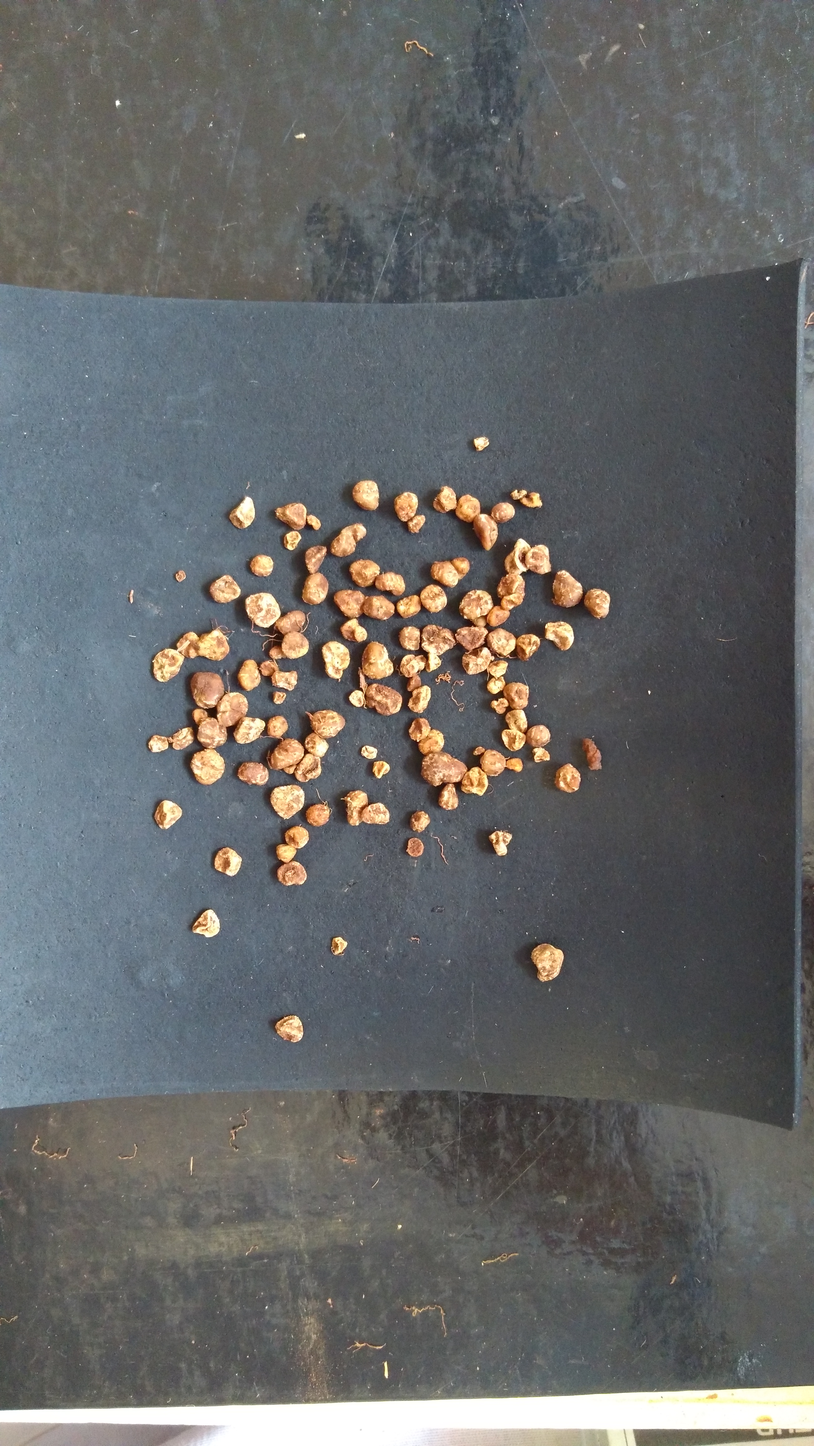nodule: (182, 900, 233, 948), (527, 939, 571, 988), (420, 747, 469, 789), (544, 565, 585, 612), (149, 793, 189, 840), (267, 781, 309, 825), (241, 586, 282, 631), (188, 746, 228, 792), (187, 665, 227, 711), (360, 637, 398, 683), (195, 624, 236, 666), (328, 519, 370, 559), (305, 707, 349, 744), (363, 681, 405, 719), (206, 568, 243, 611), (210, 841, 249, 881), (270, 1012, 311, 1050), (213, 690, 251, 730), (320, 638, 353, 682), (195, 713, 232, 752), (150, 646, 186, 685), (339, 786, 370, 831), (418, 622, 459, 656), (171, 620, 203, 663), (270, 495, 308, 531), (224, 493, 259, 532), (495, 572, 529, 611), (459, 762, 493, 801), (349, 476, 383, 513), (357, 798, 396, 830), (539, 621, 579, 652), (472, 513, 502, 554), (583, 585, 618, 620), (330, 586, 365, 621), (458, 588, 495, 621), (390, 484, 421, 523), (425, 558, 460, 592), (268, 737, 303, 771), (359, 592, 397, 623), (501, 535, 529, 577), (460, 644, 494, 678), (454, 490, 484, 528), (488, 627, 521, 661), (300, 570, 329, 608), (501, 679, 534, 712), (236, 759, 270, 791), (296, 747, 324, 785), (523, 543, 555, 576), (278, 628, 310, 661), (394, 622, 425, 656), (418, 581, 449, 615), (232, 715, 267, 745), (348, 559, 384, 588), (235, 656, 262, 694), (273, 861, 311, 888), (299, 728, 331, 760), (551, 763, 584, 794), (429, 481, 457, 517), (372, 572, 409, 599), (453, 624, 488, 652), (303, 797, 331, 832), (579, 737, 605, 774), (487, 829, 517, 861), (406, 683, 434, 717), (273, 608, 307, 636), (409, 805, 439, 836), (165, 723, 197, 752), (265, 666, 302, 691), (514, 632, 542, 665), (478, 747, 506, 780), (247, 552, 279, 580), (271, 839, 304, 866), (302, 543, 331, 573), (498, 725, 529, 753), (416, 727, 447, 755), (488, 499, 518, 527), (398, 652, 429, 679), (525, 722, 553, 751), (395, 591, 424, 619), (486, 602, 517, 628), (405, 715, 433, 743), (502, 707, 530, 734), (283, 822, 311, 849), (337, 618, 367, 643), (516, 487, 545, 511), (438, 780, 458, 814), (451, 555, 476, 582), (145, 731, 170, 757), (405, 836, 432, 860), (280, 526, 304, 552), (266, 712, 289, 738), (302, 509, 325, 534), (404, 512, 428, 534), (324, 934, 348, 956), (346, 687, 367, 712), (426, 652, 446, 678), (485, 673, 508, 695), (486, 659, 511, 679), (267, 644, 291, 664), (530, 745, 552, 766), (259, 656, 279, 679), (472, 436, 496, 455), (489, 695, 510, 716), (189, 706, 210, 727), (173, 565, 194, 586), (370, 758, 390, 780), (510, 485, 529, 507), (269, 687, 288, 708), (507, 756, 526, 776), (358, 744, 380, 761), (404, 673, 423, 692), (471, 615, 488, 628), (470, 743, 485, 757)
